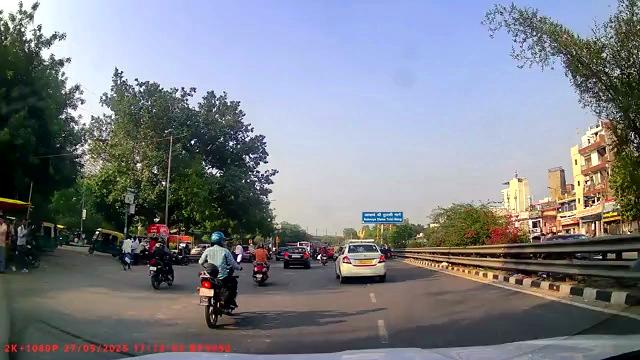motorcycle_with_helmet: (193, 235, 245, 326), (250, 242, 273, 285)
